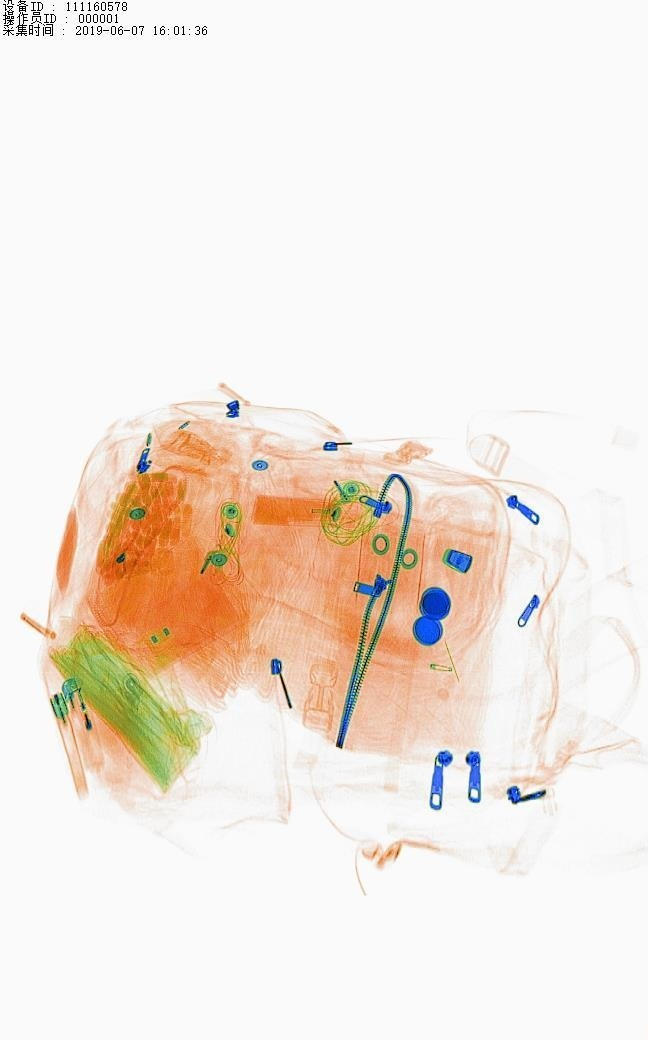NonmetallicFire: (28, 656, 131, 816)
